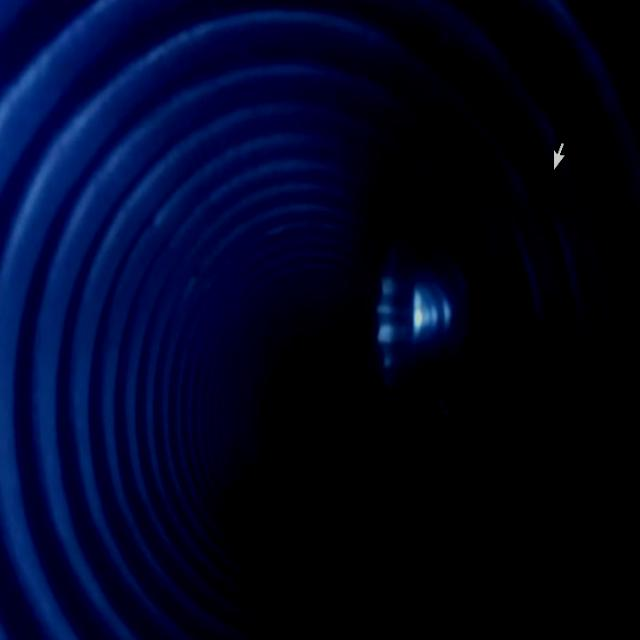metal piece: (369, 230, 477, 415)
